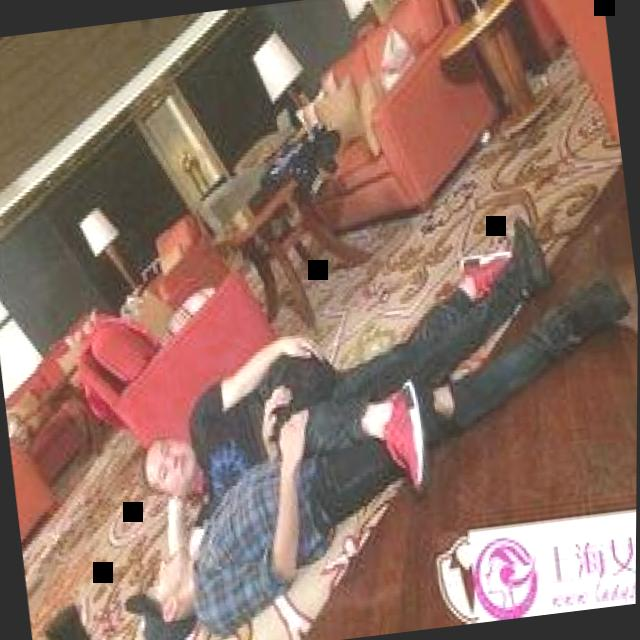Fall-Detected: (62, 202, 639, 637)
